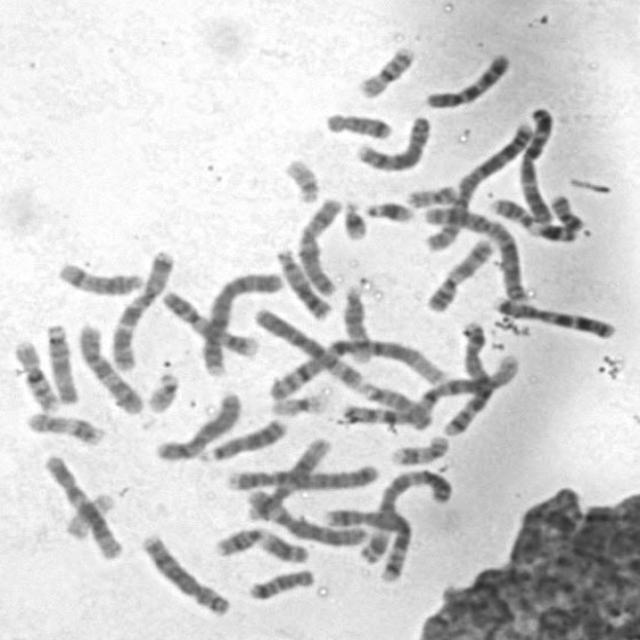A1: (331, 350, 524, 428), (264, 333, 451, 402)
A2: (420, 119, 538, 253), (419, 201, 531, 304)
A3: (354, 463, 456, 567), (513, 101, 557, 227)
B4: (196, 265, 285, 376), (222, 459, 384, 492)
B5: (319, 502, 412, 584), (441, 316, 494, 438)
C10: (72, 316, 147, 416), (418, 47, 514, 111)
C11: (485, 191, 579, 245), (208, 523, 311, 565)
C12: (38, 450, 125, 562), (243, 432, 336, 523)
C6: (249, 301, 367, 390), (244, 484, 370, 548)
C7: (105, 243, 179, 372), (490, 293, 618, 341)
C8: (136, 529, 232, 618), (348, 110, 433, 174)
C9: (155, 286, 261, 358), (420, 233, 497, 314)
D13: (271, 244, 335, 322), (196, 413, 290, 463)
D14: (52, 256, 147, 297), (337, 278, 375, 366)
D15: (353, 377, 432, 430), (40, 317, 80, 406)
E16: (8, 335, 63, 414), (353, 40, 419, 101)
E17: (21, 407, 108, 448), (385, 429, 452, 466)
E18: (242, 563, 318, 602), (320, 107, 395, 142)
F19: (62, 488, 118, 540), (266, 387, 332, 418)
F20: (546, 188, 586, 232), (403, 180, 461, 208)
G21: (360, 194, 417, 225), (338, 196, 370, 242)
G22: (279, 153, 322, 204), (141, 366, 181, 414)
X: (150, 388, 245, 463), (293, 192, 346, 297)
